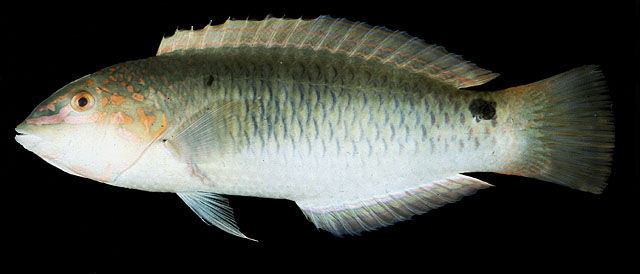fish: (14, 14, 615, 242)
